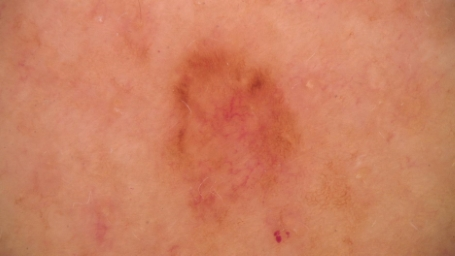melanoma: (166, 42, 302, 225)
